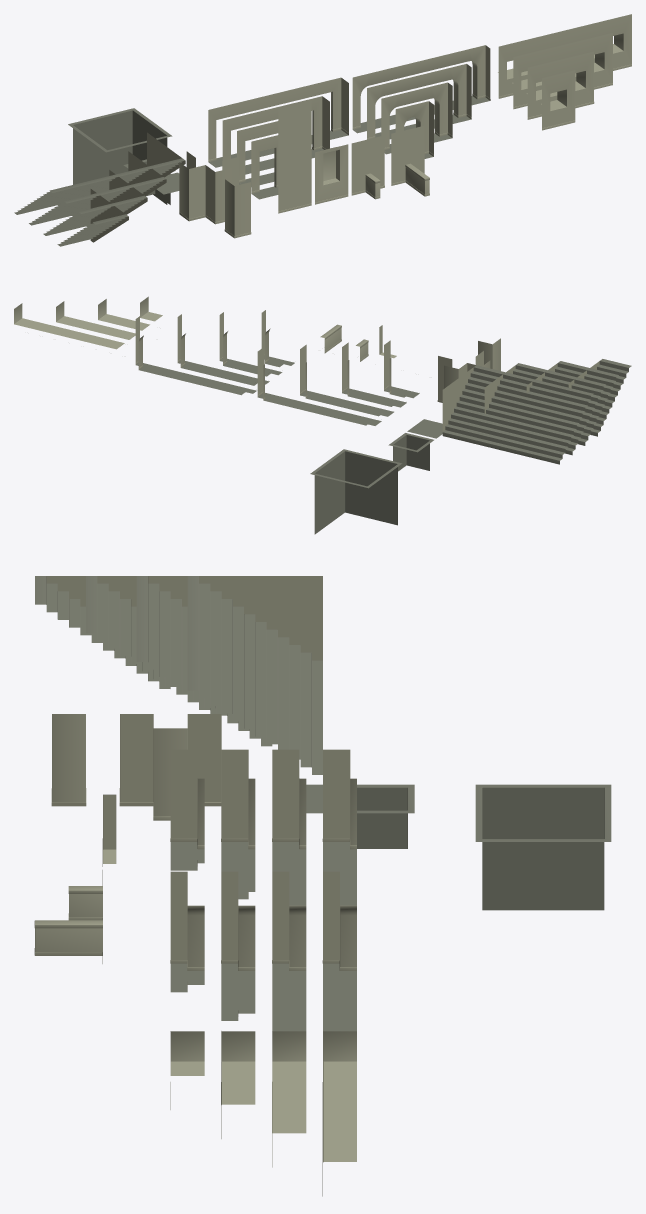
The model's file is backroom.glb.
The picture shows the model from 3 angles, top to bottom: view 1: azimuth 30°, elevation 25°; view 2: azimuth 150°, elevation 25°; view 3: azimuth 270°, elevation 25°; orthographic projection. The views are drawn at different scales.
Visible parts, largest first — view 1: floor_3, hole_mid_4, door_mid_4, arch_mid_4, pillar_1, hole_mid_3, arch_mid_3, stair_4, hole_mid_2, door_mid_3, arch_mid_2, wall_4 (+12 smaller); view 2: stair_4, floor_3, stair_3, stair_2, door_mid_4, arch_mid_4, floor_2, door_mid_3, hole_mid_4, stair_1, arch_mid_3, pillar_1 (+8 smaller); view 3: stair_4, floor_3, pillar_1, stair_3, arch_mid_3, arch_mid_4, door_mid_3, stair_2, door_mid_4, hole_mid_4, arch_mid_2, door_mid_2 (+11 smaller).
Part boxes in pixels (left/top/right/bottom): floor_3: left=68, top=108, right=172, bottom=204; hole_mid_4: left=498, top=14, right=631, bottom=98; door_mid_4: left=208, top=77, right=348, bottom=167; arch_mid_4: left=352, top=45, right=490, bottom=133; pillar_1: left=179, top=151, right=238, bottom=224; hole_mid_3: left=512, top=33, right=612, bottom=109; arch_mid_3: left=367, top=64, right=471, bottom=139; stair_4: left=14, top=132, right=185, bottom=214; hole_mid_2: left=526, top=51, right=594, bottom=119; door_mid_3: left=222, top=96, right=329, bottom=174; arch_mid_2: left=381, top=82, right=452, bottom=154; wall_4: left=391, top=125, right=429, bottom=196; stair_4: left=442, top=365, right=593, bottom=464; floor_3: left=310, top=449, right=402, bottom=534; stair_3: left=484, top=363, right=605, bottom=455; stair_2: left=526, top=361, right=618, bottom=445; door_mid_4: left=257, top=347, right=381, bottom=425; arch_mid_4: left=135, top=316, right=256, bottom=395; floor_2: left=388, top=433, right=433, bottom=471; door_mid_3: left=300, top=344, right=393, bottom=416; hole_mid_4: left=14, top=303, right=124, bottom=349; stair_1: left=568, top=359, right=631, bottom=436; arch_mid_3: left=177, top=314, right=269, bottom=385; pillar_1: left=437, top=351, right=490, bottom=402; stair_4: left=187, top=576, right=322, bottom=774; floor_3: left=475, top=784, right=611, bottom=910; pillar_1: left=119, top=714, right=221, bottom=820; stair_3: left=136, top=576, right=272, bottom=746; arch_mid_3: left=272, top=871, right=306, bottom=1031; arch_mid_4: left=322, top=871, right=356, bottom=1031; door_mid_3: left=272, top=749, right=306, bottom=905; stair_2: left=86, top=576, right=221, bottom=713; door_mid_4: left=322, top=749, right=356, bottom=905; hole_mid_4: left=322, top=1031, right=356, bottom=1196; arch_mid_2: left=221, top=871, right=255, bottom=1020; door_mid_2: left=221, top=749, right=255, bottom=899.
Size of the model in its own units: 37.13 by 10 by 17.01.
